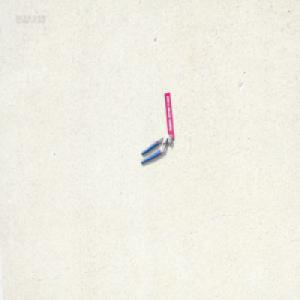Label: (163, 91, 174, 139)
Pliers: (140, 133, 172, 164)
